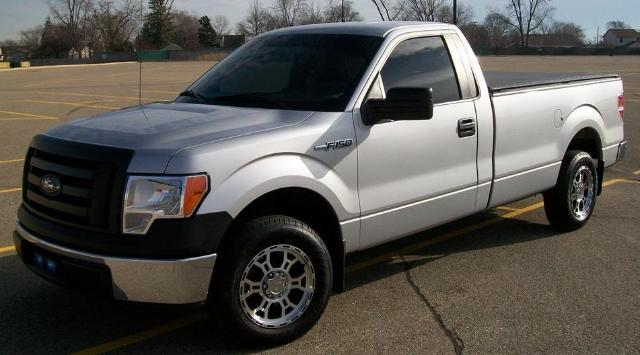pickup-truck: (14, 20, 628, 345)
